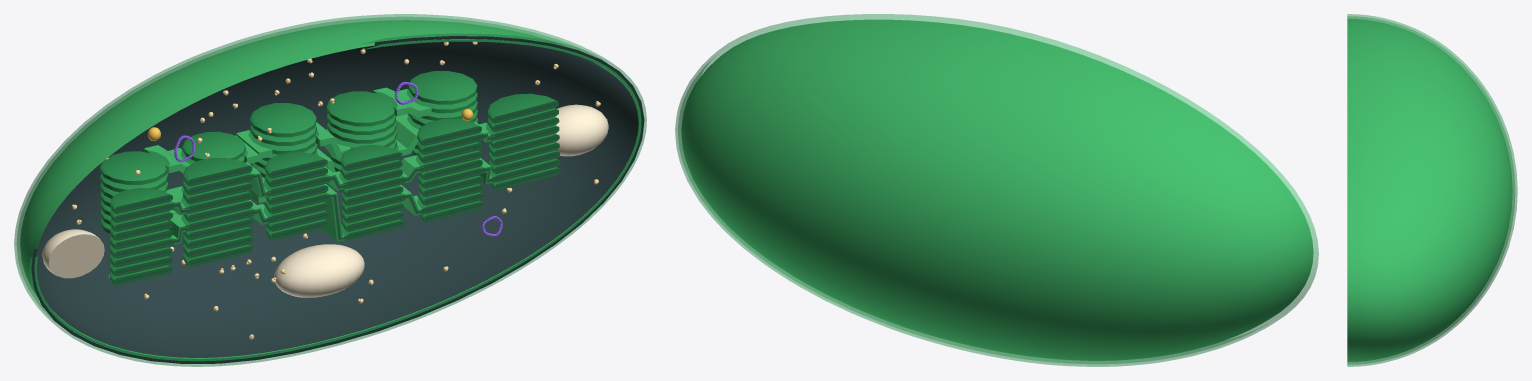
File: cloroplasto.glb
The picture shows the model from 3 angles, left to right: view 1: azimuth 30°, elevation 25°; view 2: azimuth 150°, elevation 25°; view 3: azimuth 270°, elevation 25°; orthographic projection. The views are drawn at different scales.
Visible parts, largest first — view 1: estroma, tilacoides, membrana_externa, membrana_interna, lumen_do_tilacoide, graos_de_amido, lamelas_estromais, espaco_intermembranas, ribossomos, dna_do_cloroplasto; view 2: membrana_externa, membrana_interna; view 3: membrana_externa, membrana_interna.
Part boxes in pixels (box(x1,y1,x2,y2)): estroma: box(36, 41, 638, 357); tilacoides: box(100, 71, 560, 285); membrana_externa: box(14, 14, 646, 366); membrana_interna: box(20, 20, 641, 361); lumen_do_tilacoide: box(115, 103, 558, 283); graos_de_amido: box(42, 104, 608, 297); lamelas_estromais: box(144, 87, 492, 244); espaco_intermembranas: box(31, 36, 644, 363); ribossomos: box(64, 41, 600, 339); dna_do_cloroplasto: box(174, 81, 502, 236); membrana_externa: box(675, 14, 1318, 366); membrana_interna: box(681, 19, 1313, 360); membrana_externa: box(1347, 14, 1517, 366); membrana_interna: box(1347, 19, 1512, 362).
Bounding box in the file's own units: 5.23 × 2.42 × 1.5.
